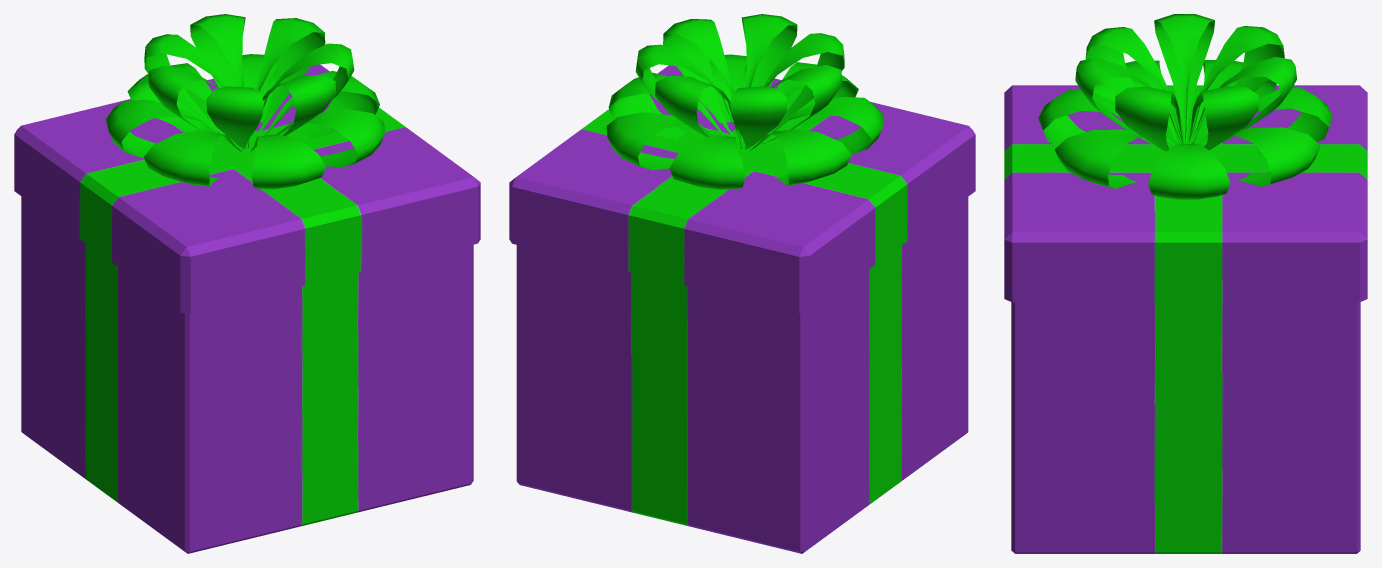
The model's file is gift_two (1).fbx.
3 views of the same model, side by side, from view 1: azimuth 30°, elevation 25°; view 2: azimuth 150°, elevation 25°; view 3: azimuth 270°, elevation 25° (orthographic). The views are drawn at different scales.
Parts seen in each view (by area): view 1: gift_one; view 2: gift_one; view 3: gift_one.
Part boxes in pixels (<box>): gift_one: <box>14,14,480,553</box>; gift_one: <box>509,14,975,553</box>; gift_one: <box>1004,14,1367,553</box>.
Size of the model in its own units: 331 by 428 by 331.
Materials: 1 (1 with a texture image).
